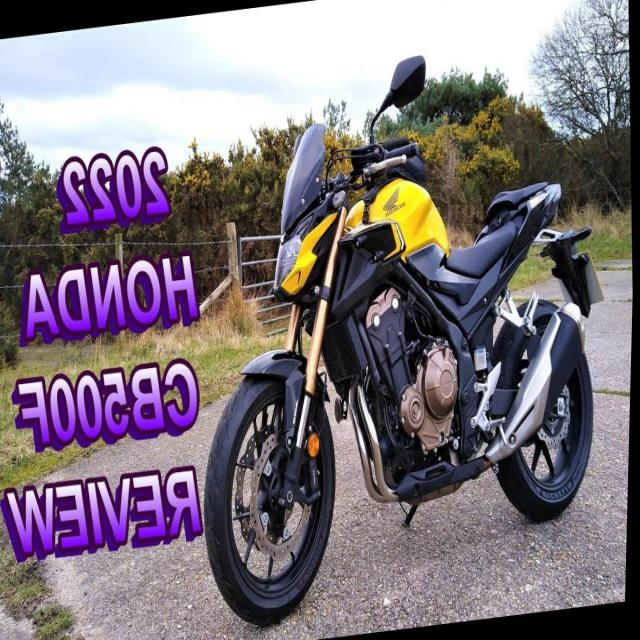CB500F: (188, 87, 622, 636)
